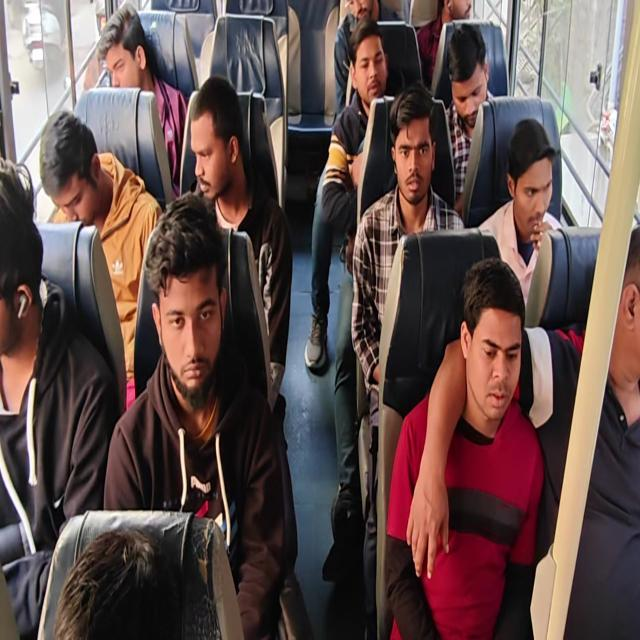person: (1, 1, 638, 638), (410, 223, 639, 639), (102, 192, 286, 638), (350, 81, 466, 637), (383, 256, 544, 638), (0, 155, 118, 638), (39, 110, 163, 412), (186, 75, 293, 410), (304, 17, 395, 372), (95, 4, 188, 198), (477, 117, 565, 314), (52, 526, 168, 638), (442, 22, 494, 214), (333, 0, 405, 117), (416, 0, 472, 90)
